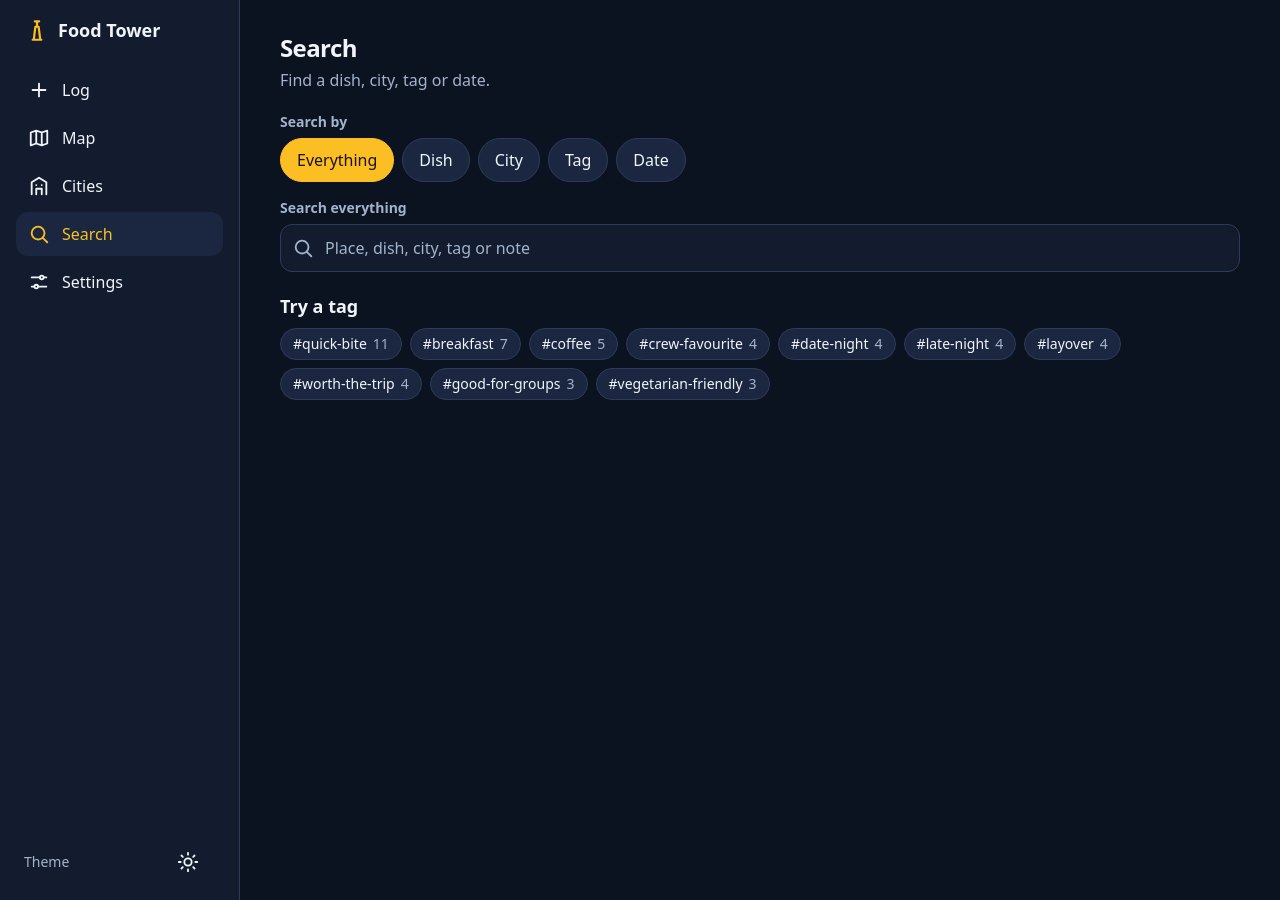
it: Search › says so when nothing matches, and lets you clear the search
The width and height of the screenshot is (1280, 900).
Check: the heading "Search" is shown, box [280,31,357,64]
Type "zzzzqx" into the search field labelled "Search everything".
click(760, 248); type("zzzzqx")  # box [280,224,1240,272]
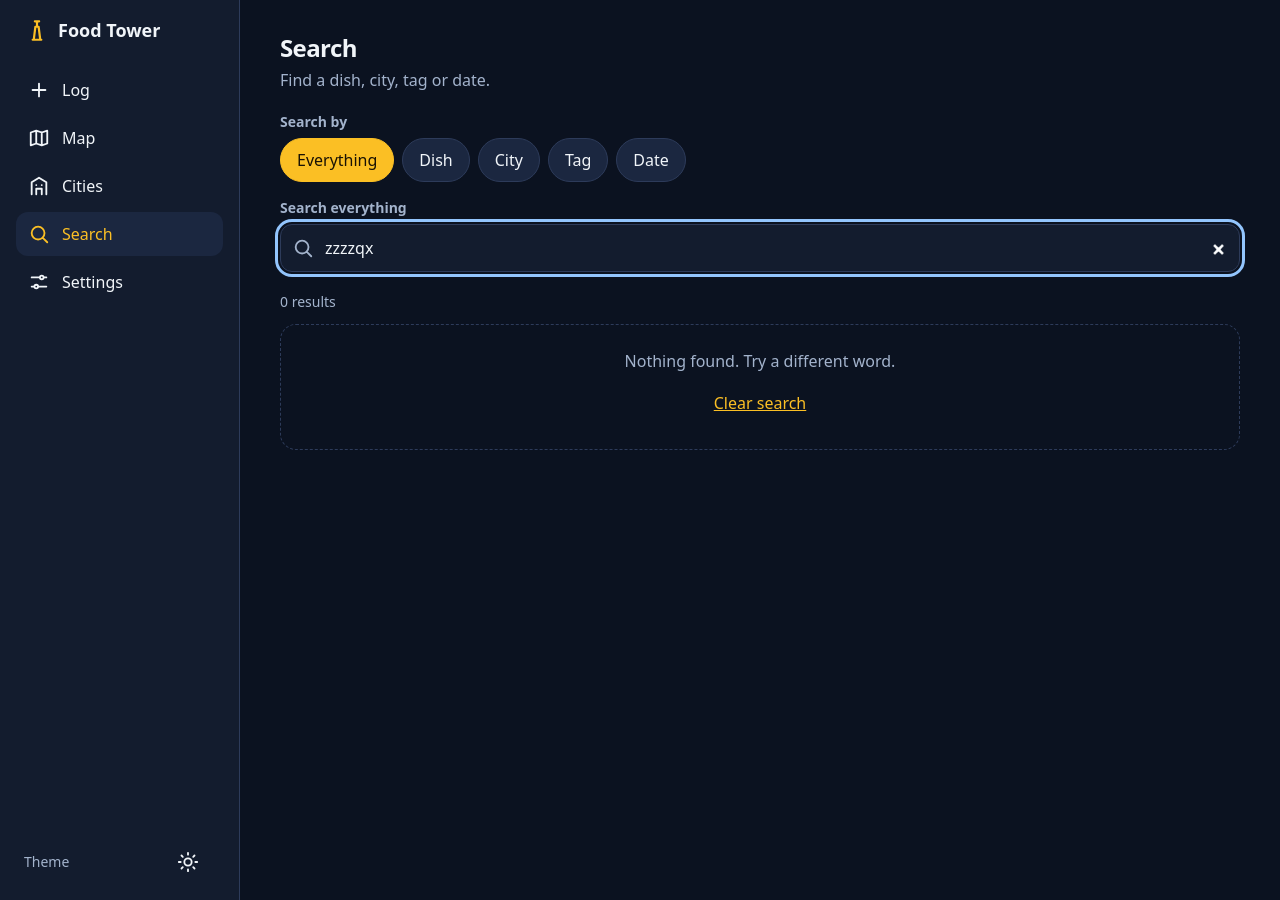
Check: the text "Nothing found. Try a different word." is shown, box [625,350,895,372]
Click the link "Clear search".
click(760, 403)  # box [714,392,806,414]
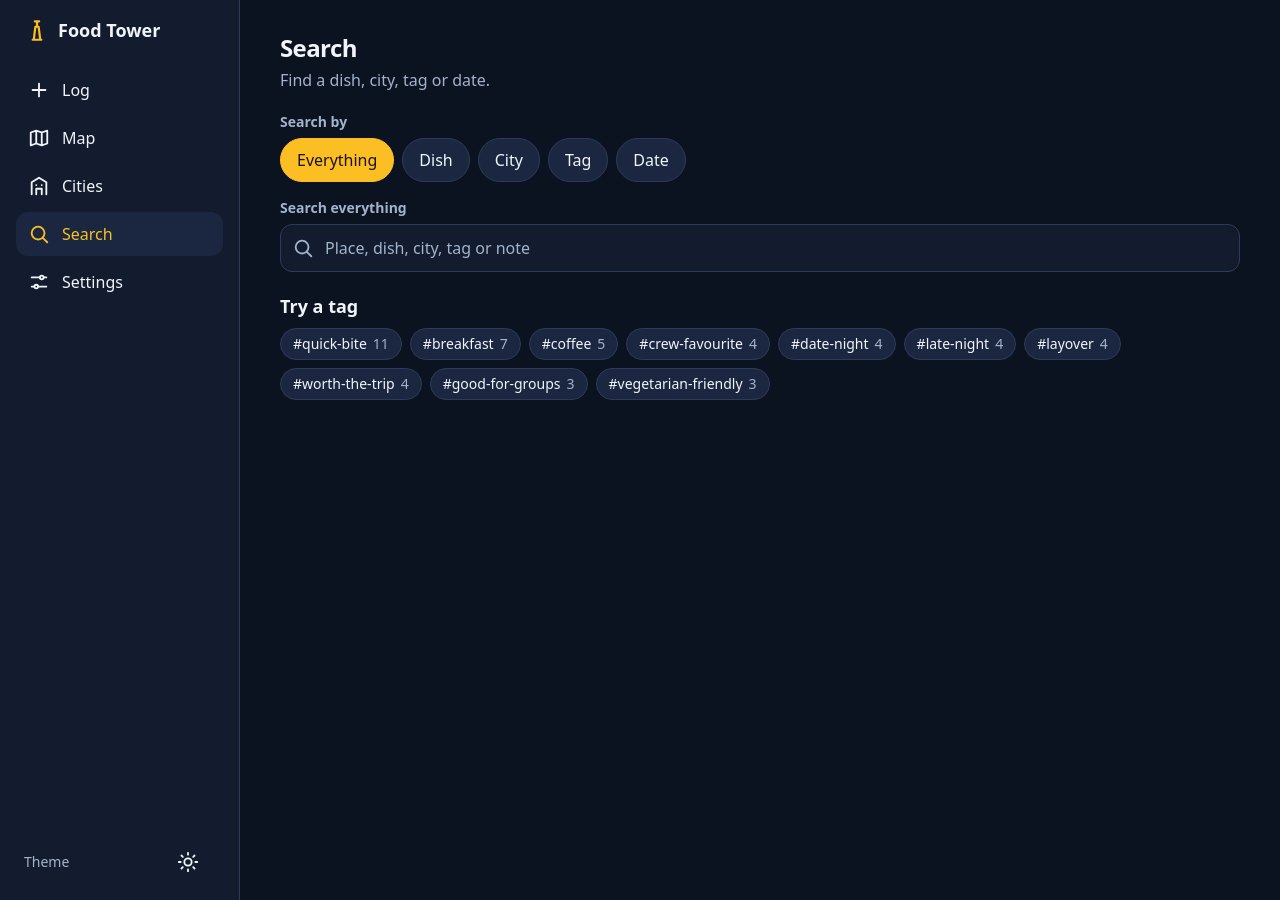
Check: the search field labelled "Search everything" is empty, box [280,224,1240,272]
